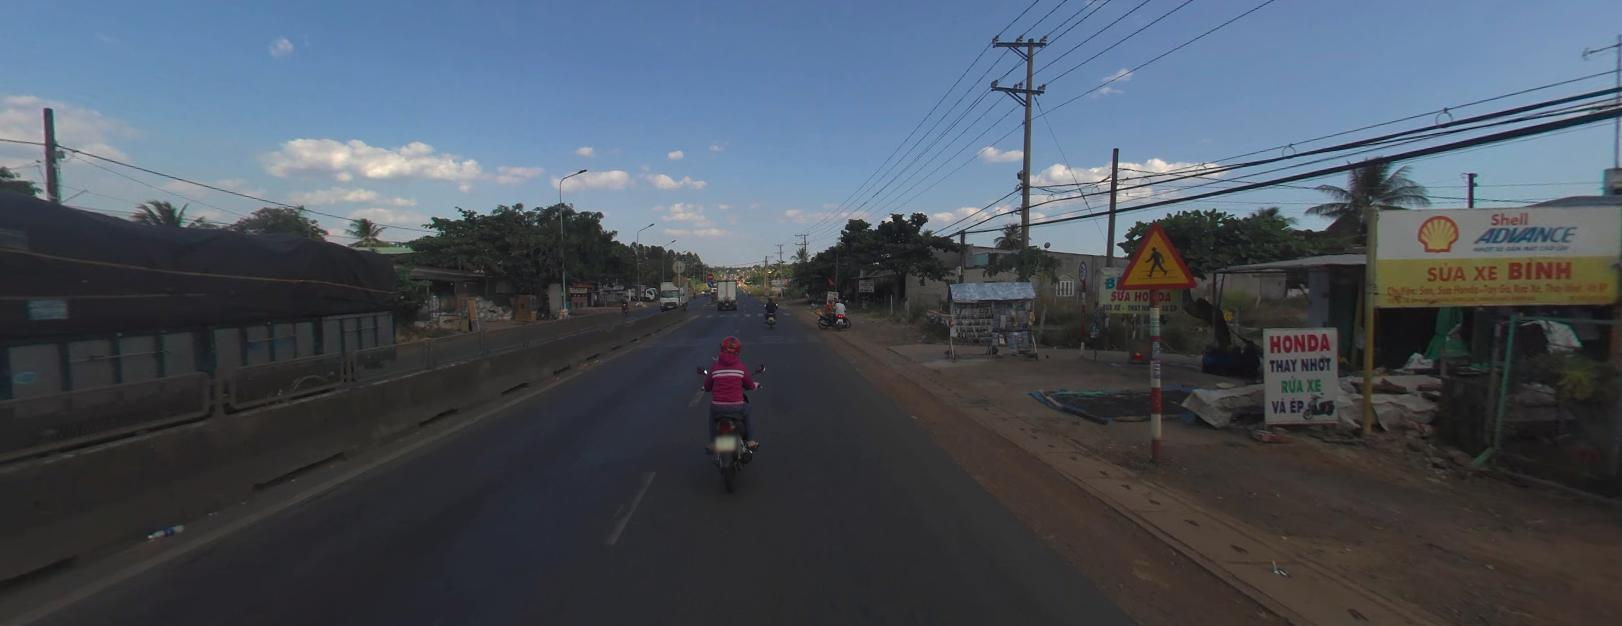Cam con lai: (1078, 260, 1085, 279)
Cam nguoc chieu: (705, 272, 713, 278)
Hieu lenh: (707, 279, 713, 285)
Nguy hiem: (1120, 219, 1198, 287)
